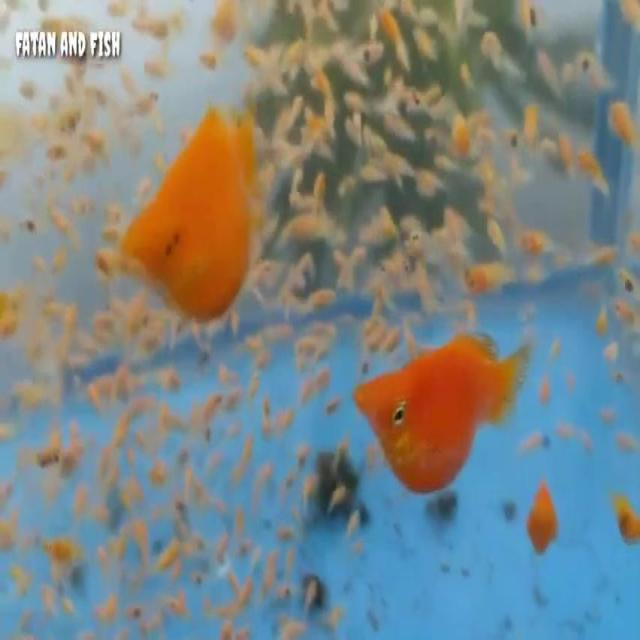PlatyFish: (113, 90, 279, 337), (346, 312, 538, 500)
